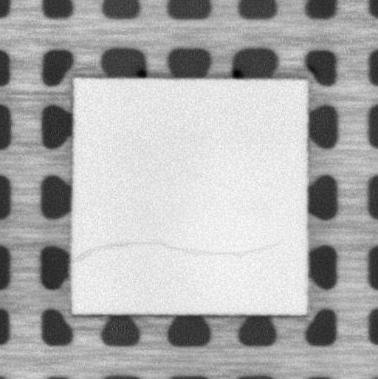DIE_CRACK: (71, 237, 285, 264)
